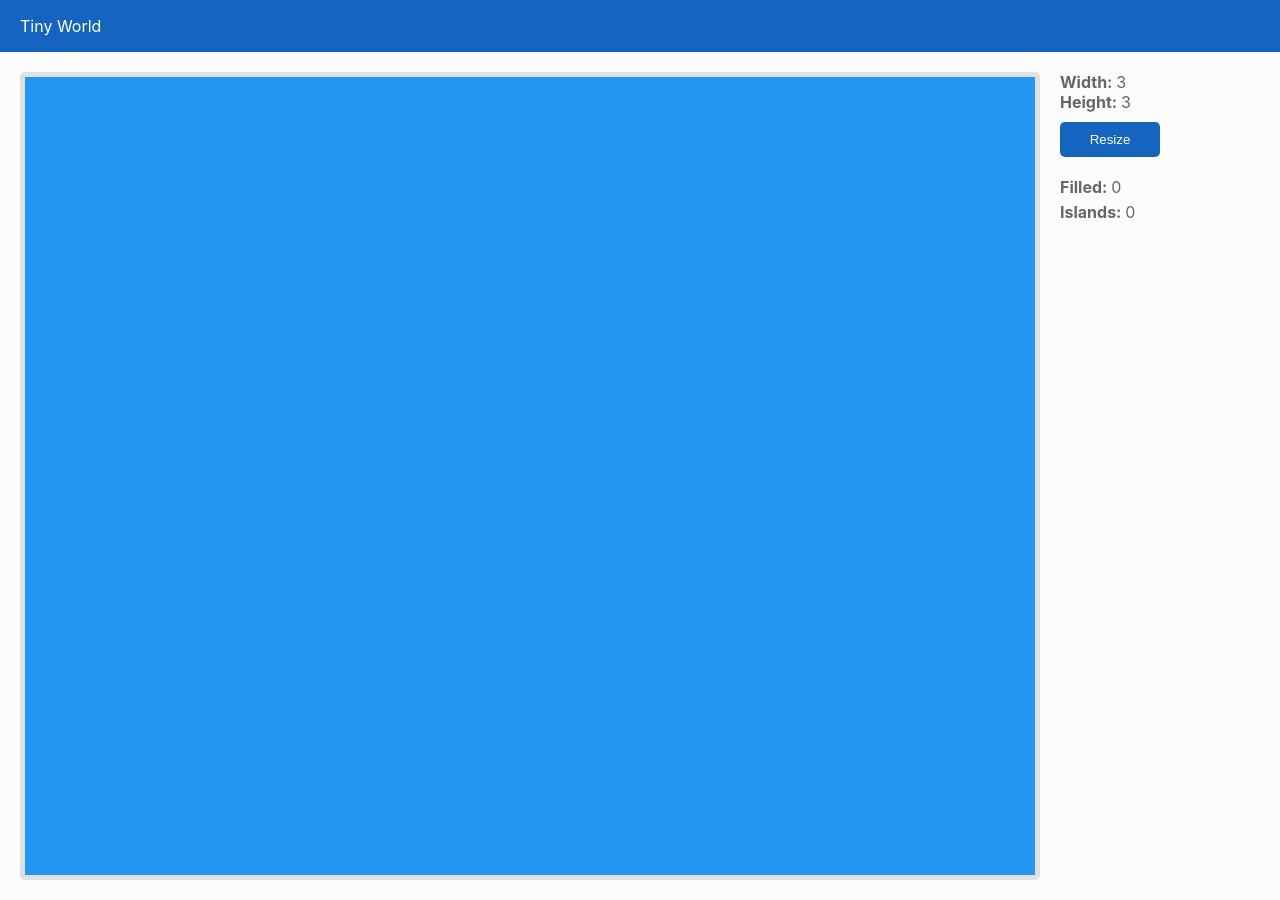
Test: App › resize successful
Click the 1st cell.
click(193, 210)  # box [25,77,362,343]
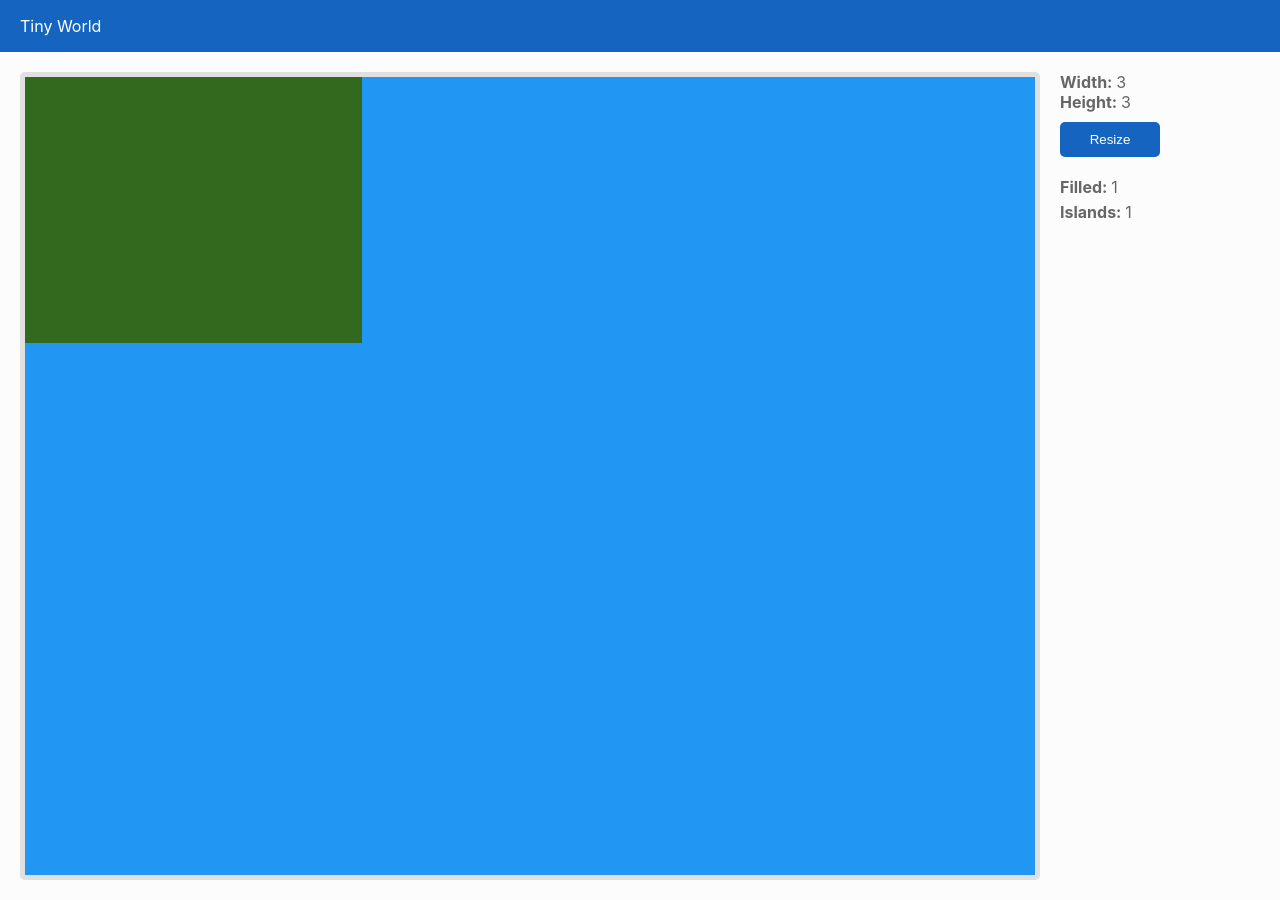
Result: the 1st cell has class "grid-cell--filled" at [25,77,362,343]
Click the 2nd cell.
click(530, 210)  # box [362,77,698,343]
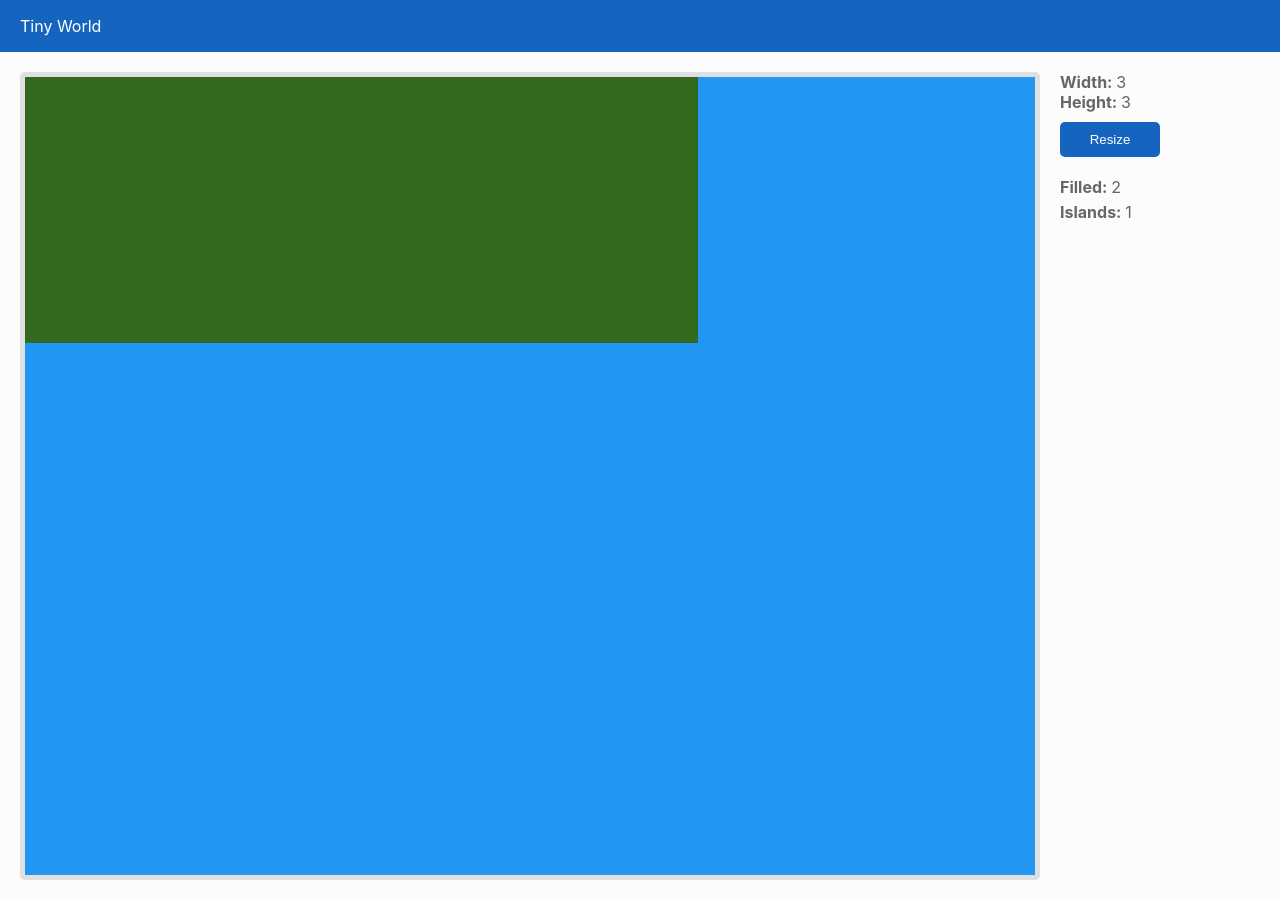
Result: the 2nd cell has class "grid-cell--filled" at [362,77,698,343]
Click the 6th cell.
click(867, 476)  # box [698,343,1035,609]
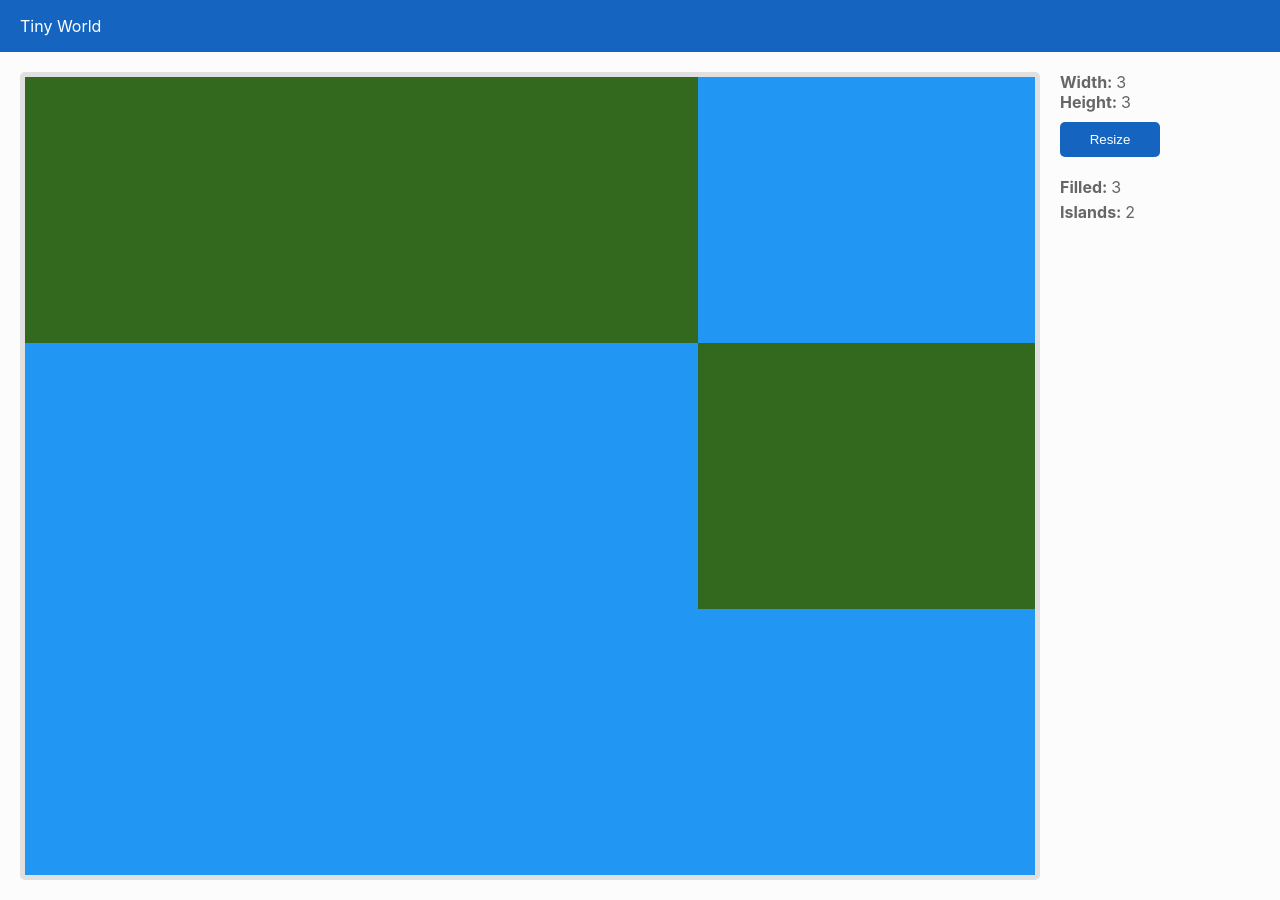
Expected: the text named "Width:" reads "3", [1116,72,1126,92]
Result: the text named "Filled:" reads "3" at [1111,177,1121,197]
Result: the text named "Islands:" reads "2" at [1125,202,1135,222]
Click the button "Resize".
click(1110, 140)  # box [1060,122,1160,157]
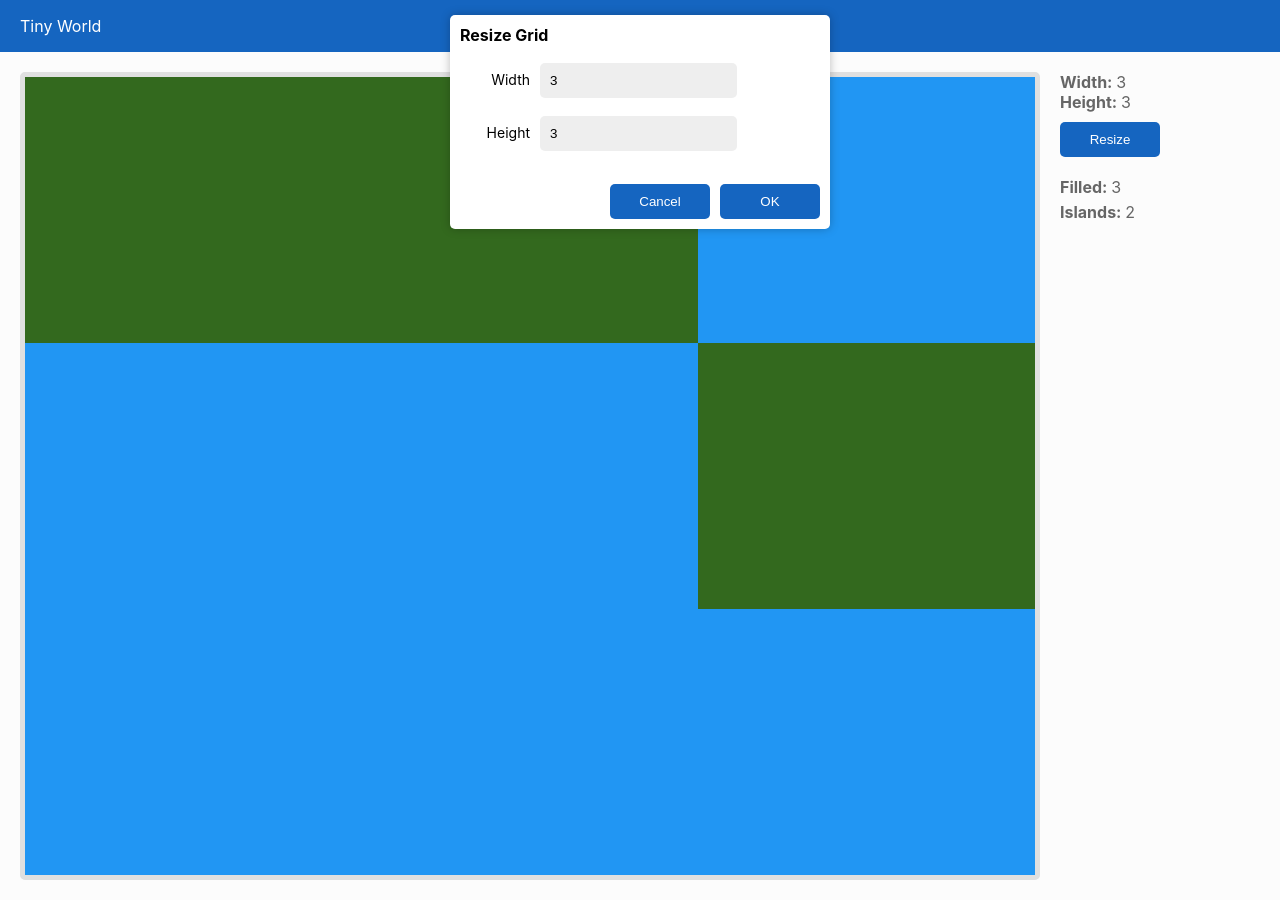
Result: the dialog is shown at [450,15,830,229]
Result: the number field labelled "Width" holds "3"
Result: the number field labelled "Height" holds "3" at [540,116,737,151]
Replace the text in the number field labelled "Width" with "2" at {"x": 638, "y": 81}, box [540,63,737,98]
Replace the text in the number field labelled "Height" with "4" at {"x": 638, "y": 134}, box [540,116,737,151]
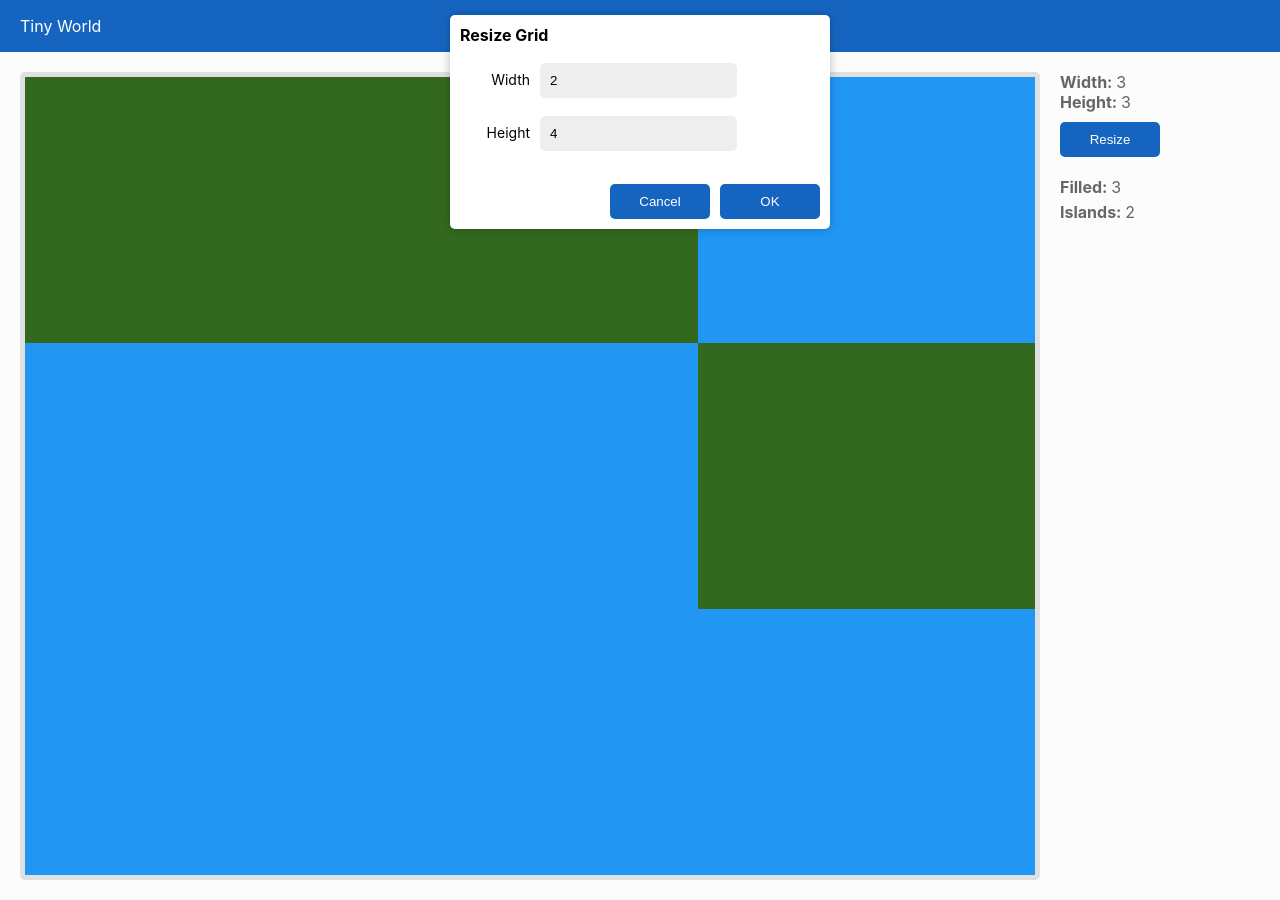
Click the button "OK".
click(770, 202)  # box [720,184,820,219]
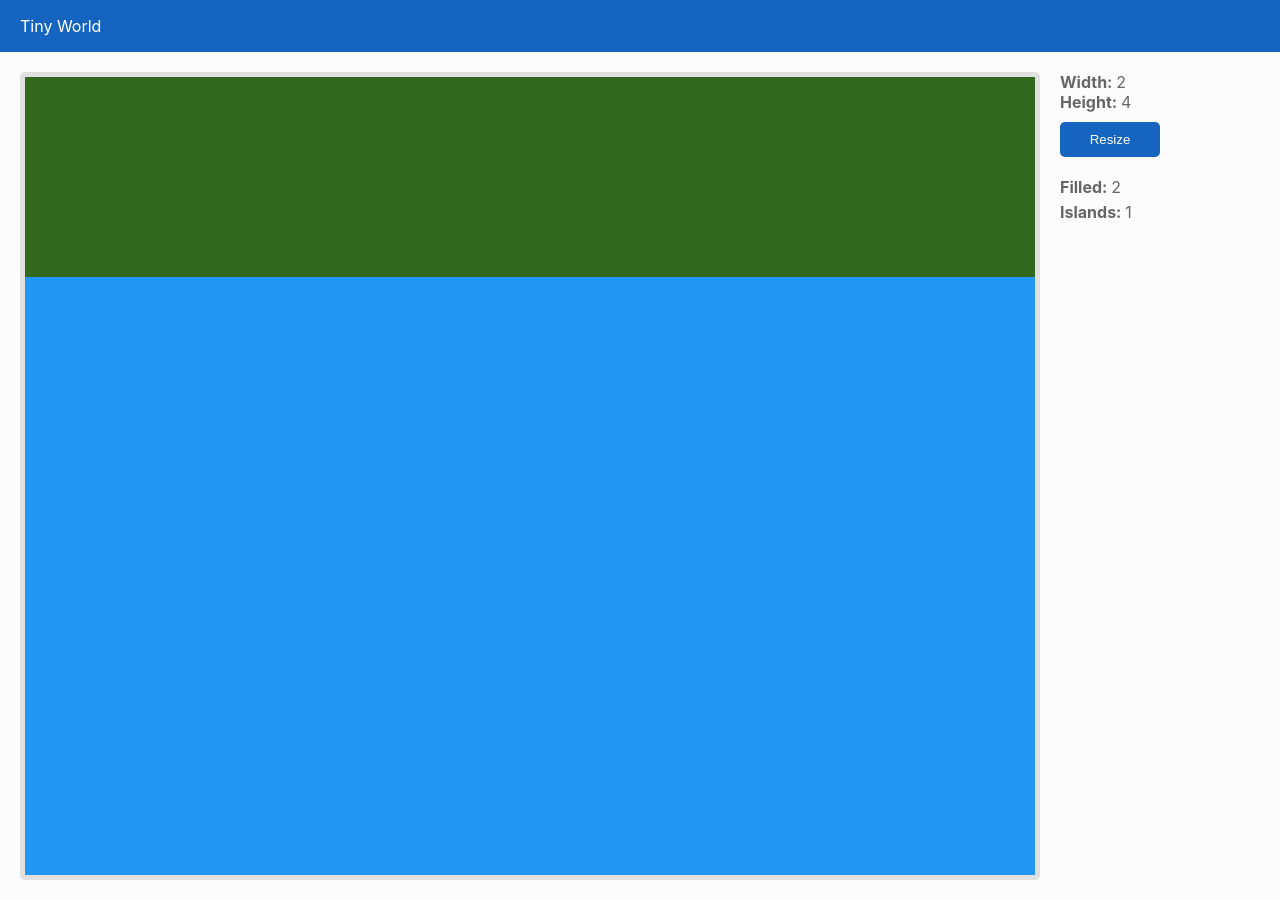
Result: the dialog is gone
Result: the number of rows is 4 at [25,77,1035,276]; [25,276,1035,476]; [25,476,1035,676]; [25,676,1035,875]
Result: the text named "Width:" reads "2" at [1116,72,1126,92]
